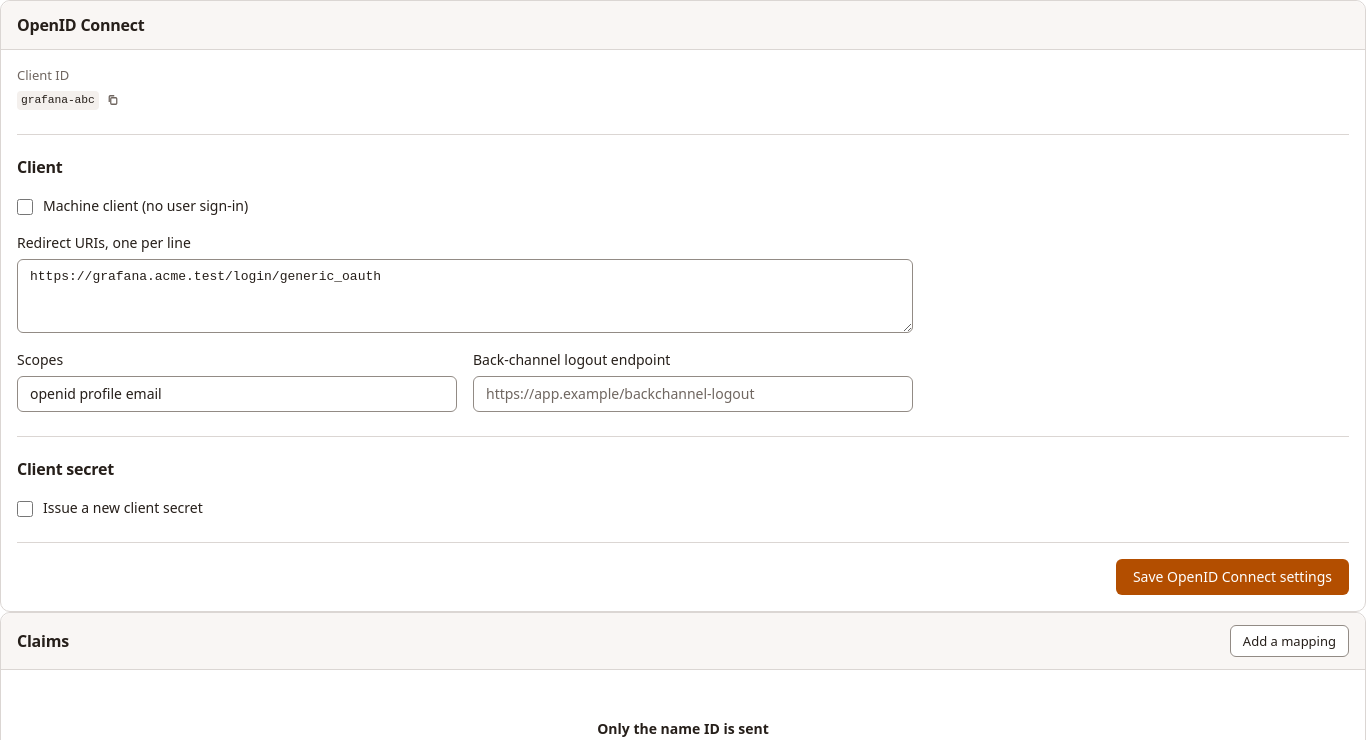
Test case: ApplicationSso › shows a rotated secret once
Click the checkbox labelled "Issue a new client secret": (25, 509) 17,501 -> 33,517
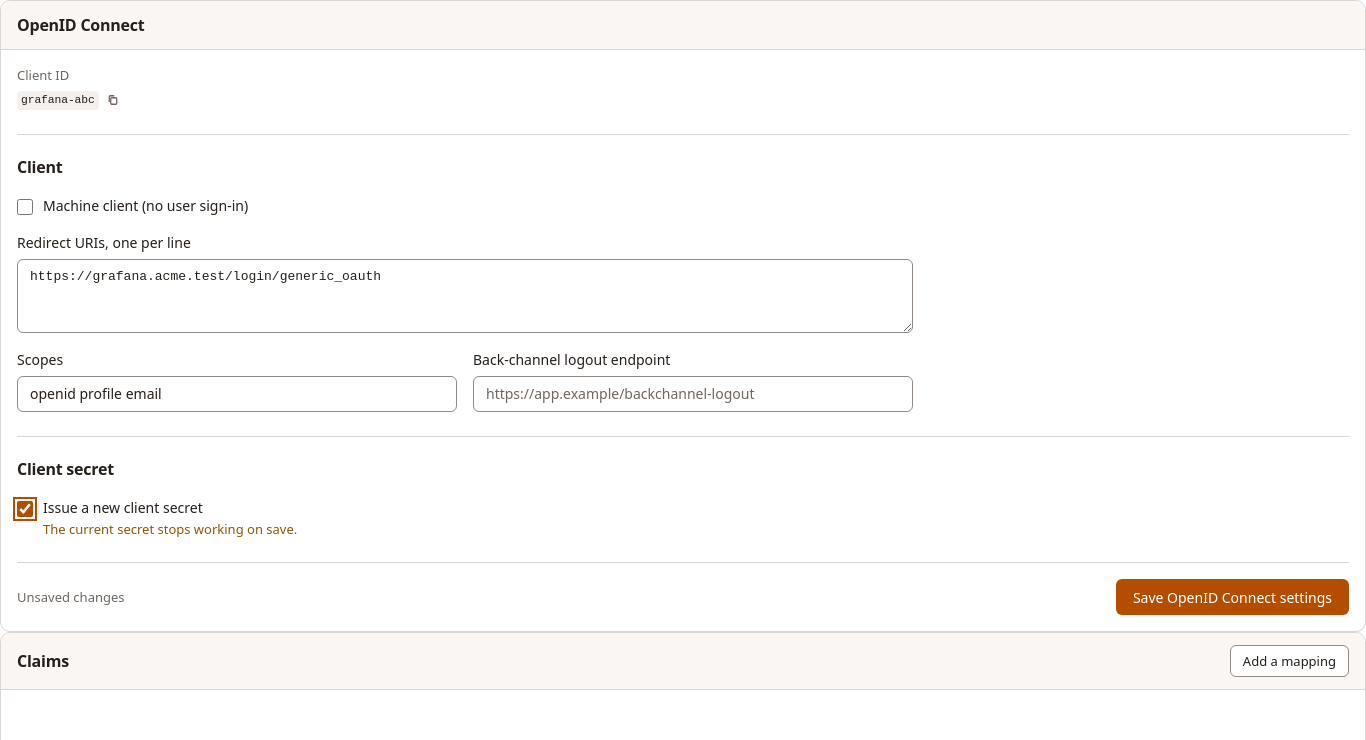
Click the button "Save OpenID Connect settings": (1232, 597) 1116,579 -> 1349,615
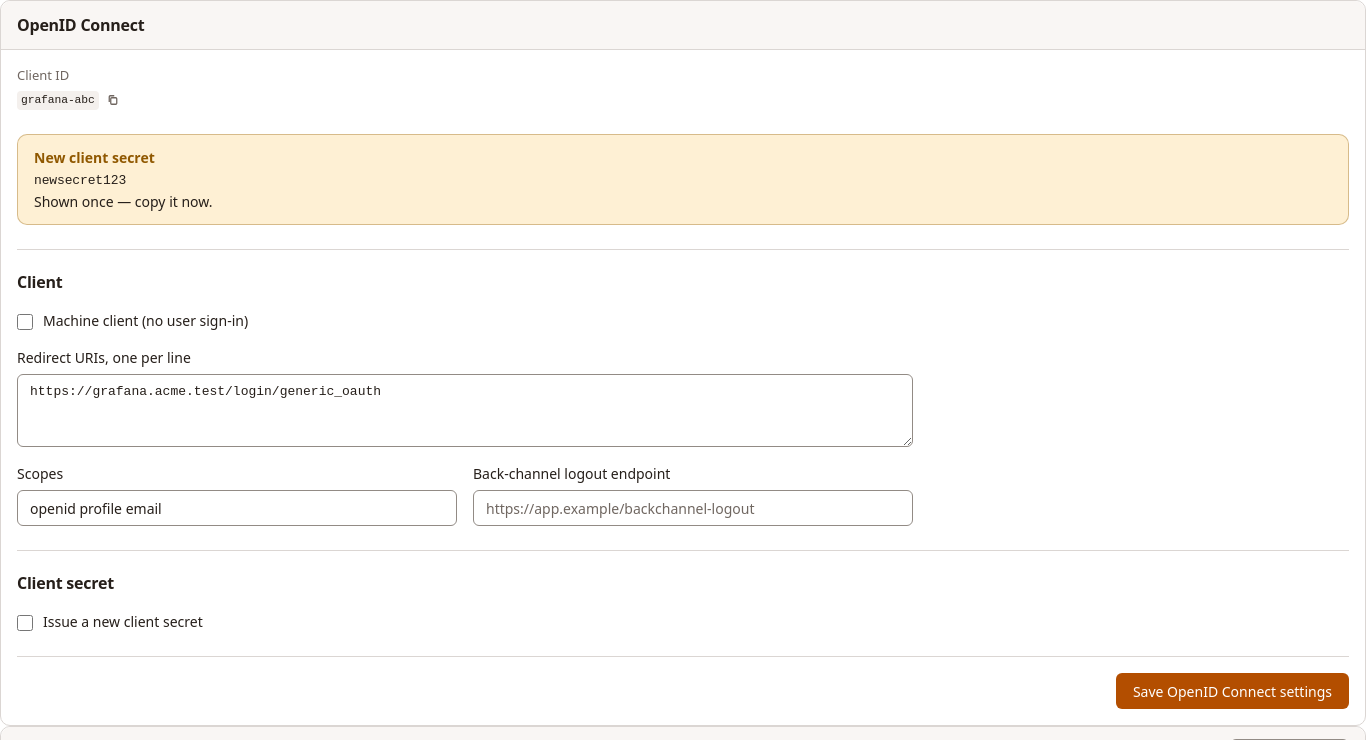
expect the text "newsecret123" is shown: met, box 34,173 -> 126,188
